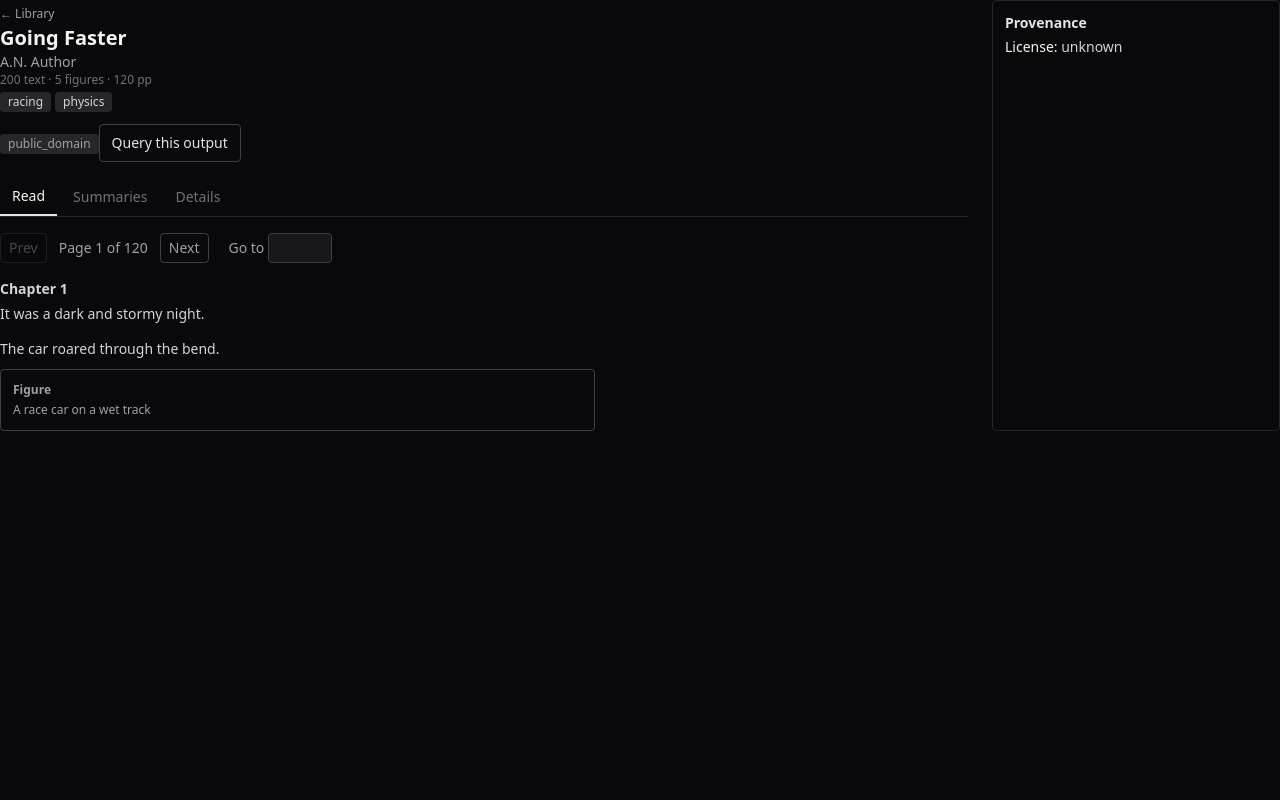
Test: BookView › Summaries tab renders DSI and summary tree content
Click the tab "Summaries". click: (110, 197)
box: 61,178 -> 160,216
(page scrolled)
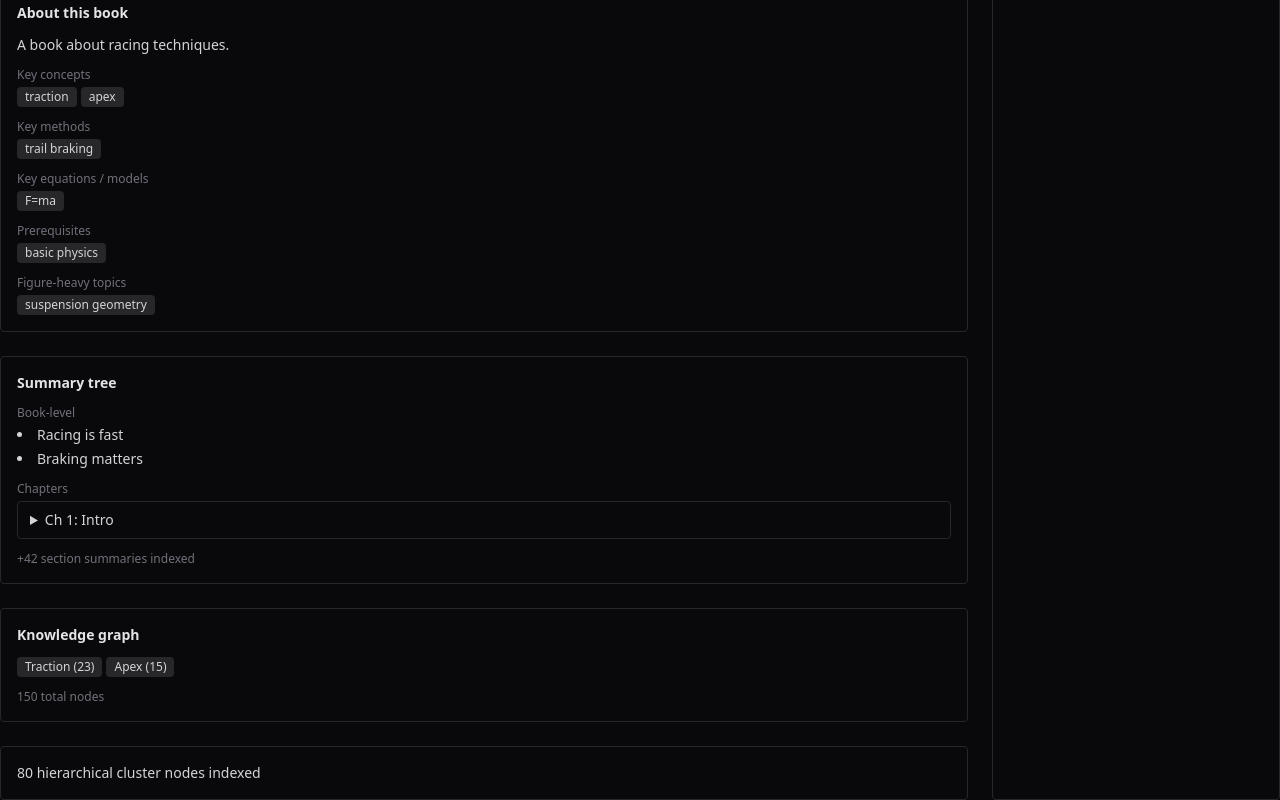
Expected: the text "A book about racing techniques." is shown, 17,35 -> 229,54
Expected: the text "traction" is shown, 17,87 -> 77,107
Expected: the text "apex" is shown, 81,87 -> 124,107
